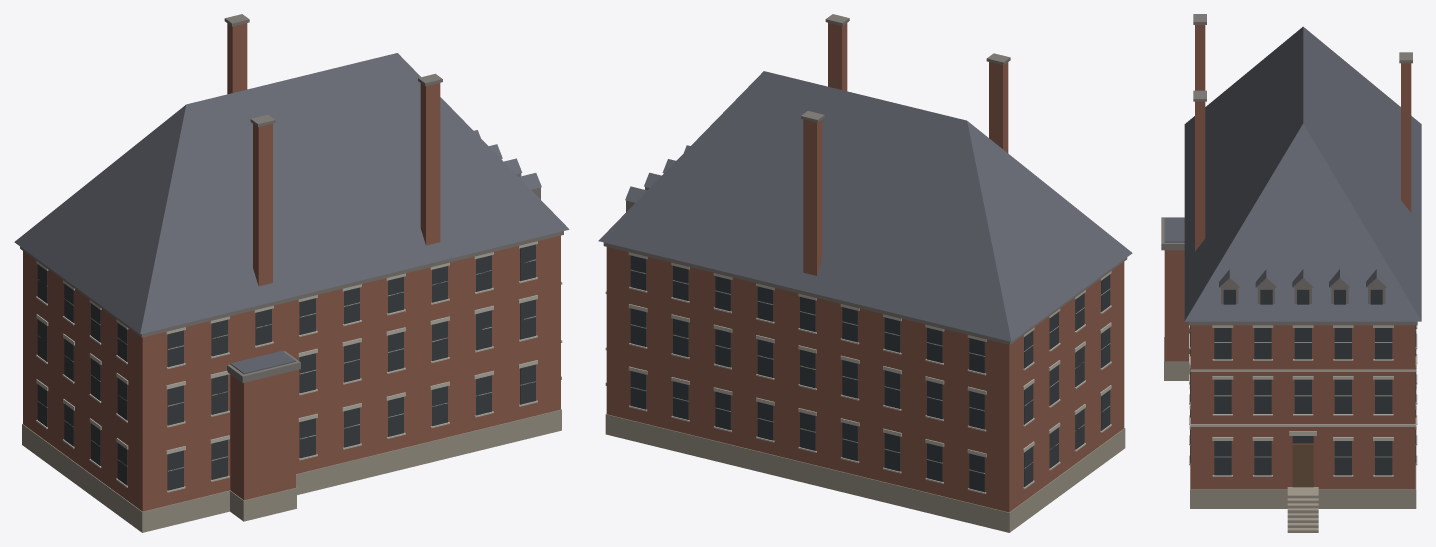
Rendered from sherman_house_2100_prairie__draft_1904.glb.
The picture shows the model from 3 angles, left to right: view 1: azimuth 30°, elevation 25°; view 2: azimuth 150°, elevation 25°; view 3: azimuth 270°, elevation 25°; orthographic projection. The views are drawn at different scales.
Visible parts, largest first — view 1: sherman_house_2100_prairie__draft_1904; view 2: sherman_house_2100_prairie__draft_1904; view 3: sherman_house_2100_prairie__draft_1904.
Part boxes in pixels (bbox=[...]): sherman_house_2100_prairie__draft_1904: bbox=[14, 14, 569, 532]; sherman_house_2100_prairie__draft_1904: bbox=[598, 14, 1132, 532]; sherman_house_2100_prairie__draft_1904: bbox=[1161, 14, 1421, 532].
Bounding box in the file's own units: 29.9 × 22.71 × 15.05.
